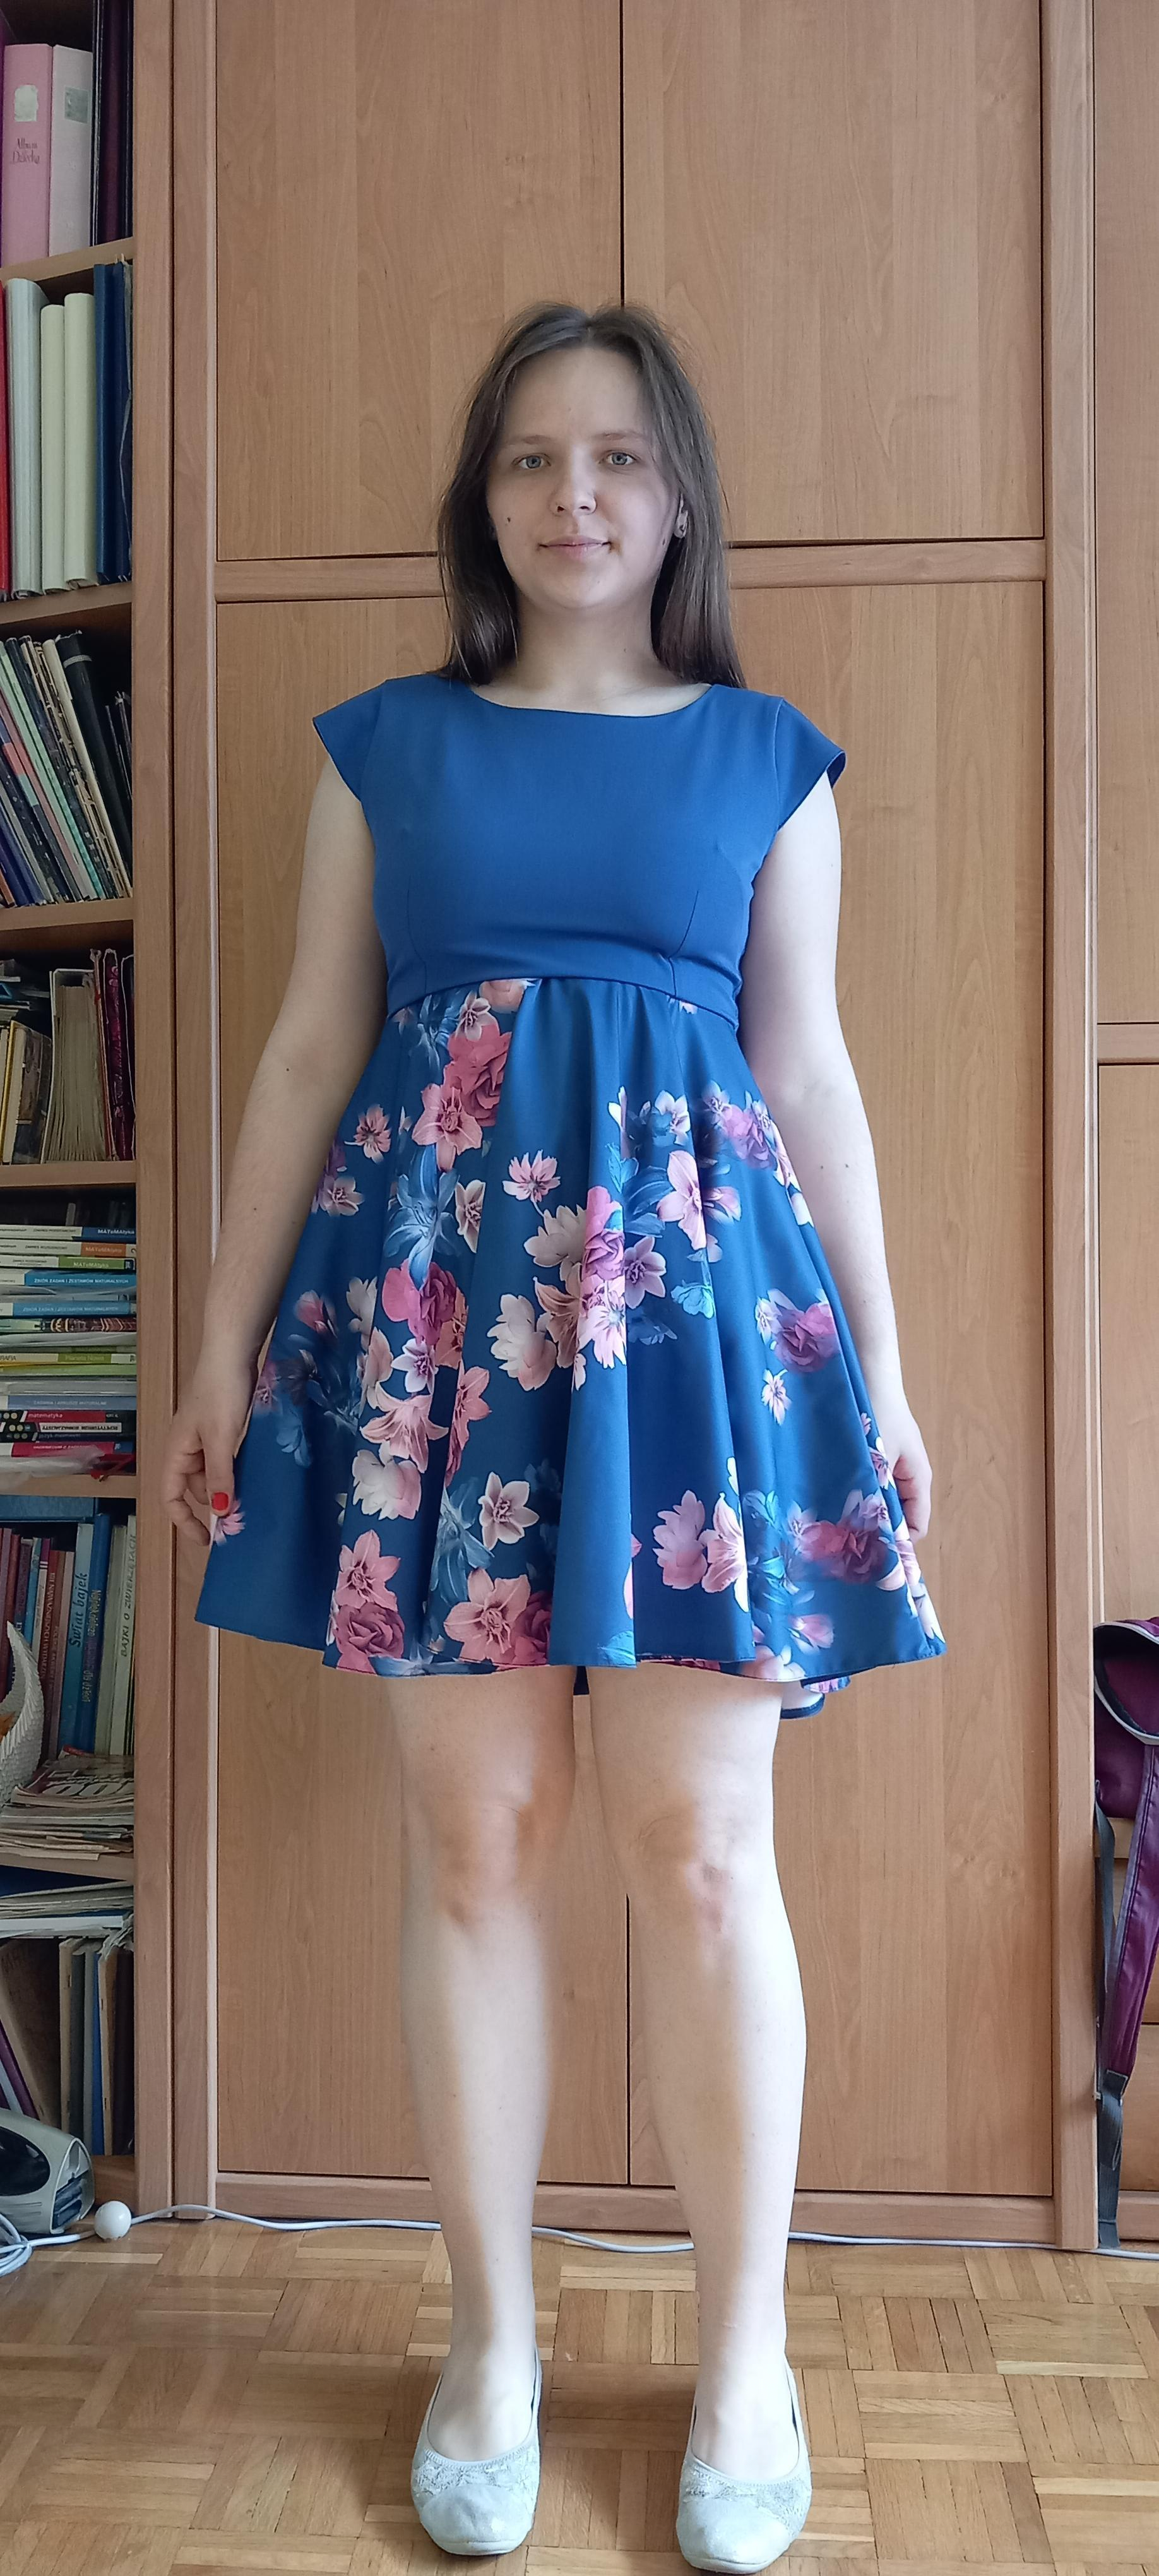dress: (190, 665, 949, 1718)
